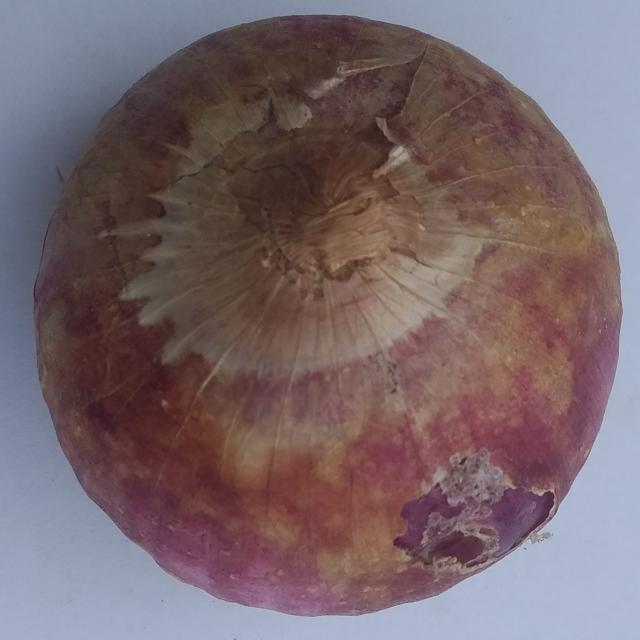onion: (31, 13, 624, 618)
